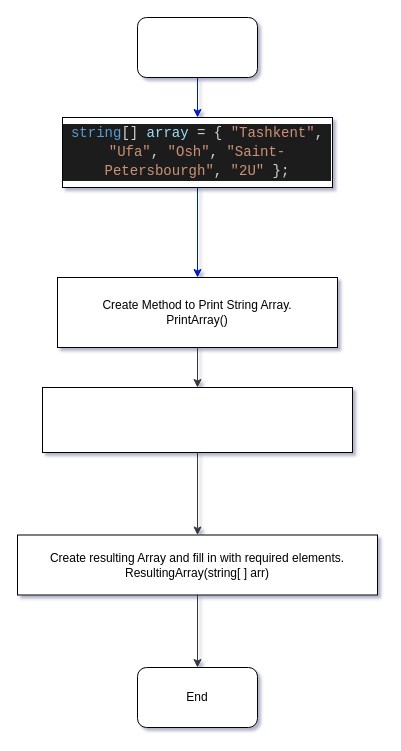
This 401x751 diagram has some shape labels left out. Here are the shapes that lost their labels. From the top down, the centre of each, then its label:
At point (197, 47): "Start".
At point (197, 419): "Create Method to find the length of resulting Array. ArrLength(string[ ] arr)".
